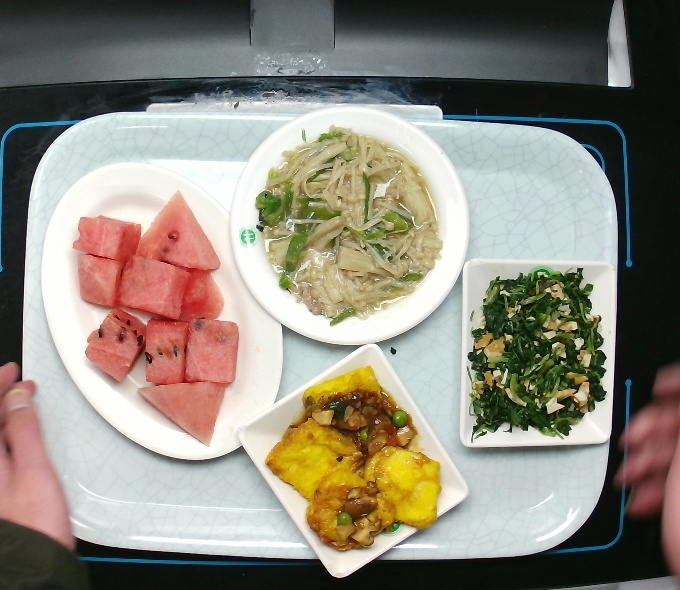wcq-CuiPiDouFu: (258, 362, 449, 558)
wcq-JinZhenGu: (248, 120, 452, 331)
wcq-MaLanTouChaoDouGan: (463, 264, 609, 446)
wcq-XiGua: (66, 186, 246, 453)
